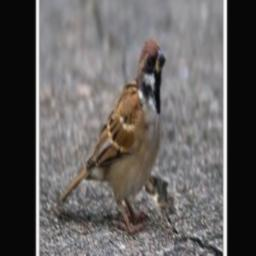Sparrow: (55, 32, 169, 239)
